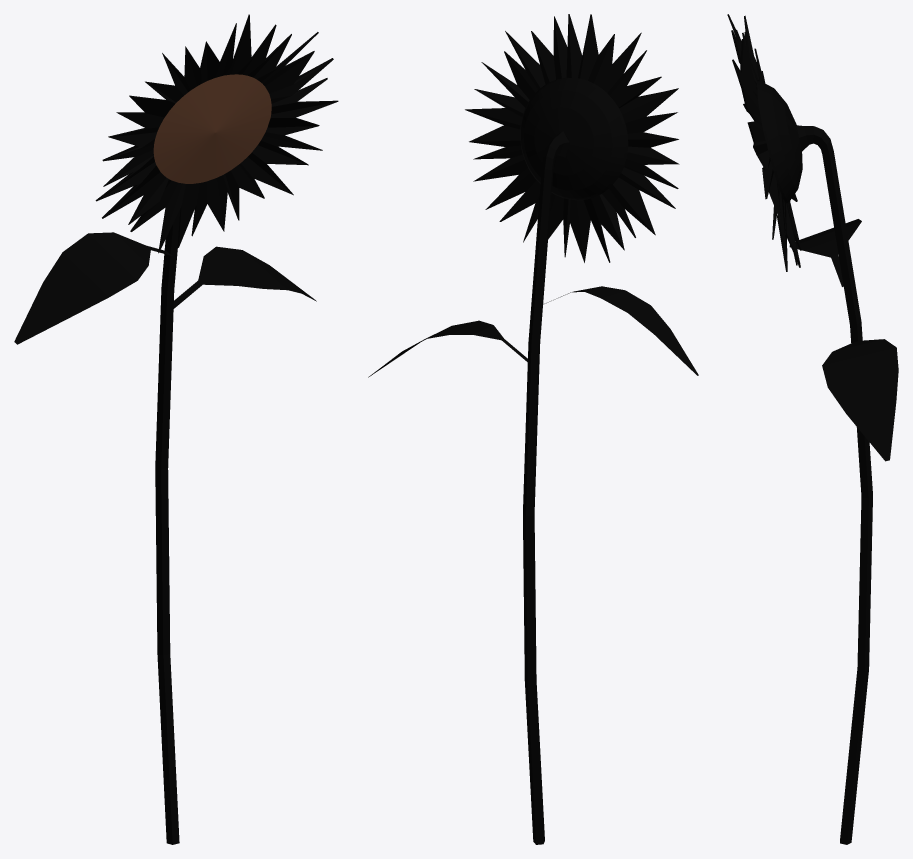
The model's file is Sunflower.fbx.
3 renders of one model, left to right at view 1: azimuth 30°, elevation 25°; view 2: azimuth 150°, elevation 25°; view 3: azimuth 270°, elevation 25°, orthographic. The views are drawn at different scales.
Parts seen in each view (by area): view 1: Sunflower; view 2: Sunflower; view 3: Sunflower.
Boxes of the visible parts, box(x1,y1,x2,y2) form: Sunflower: box(14, 14, 338, 844); Sunflower: box(368, 14, 698, 844); Sunflower: box(727, 14, 898, 844).
Bounding box in the file's own units: 0.2324 × 0.5778 × 0.1102.
